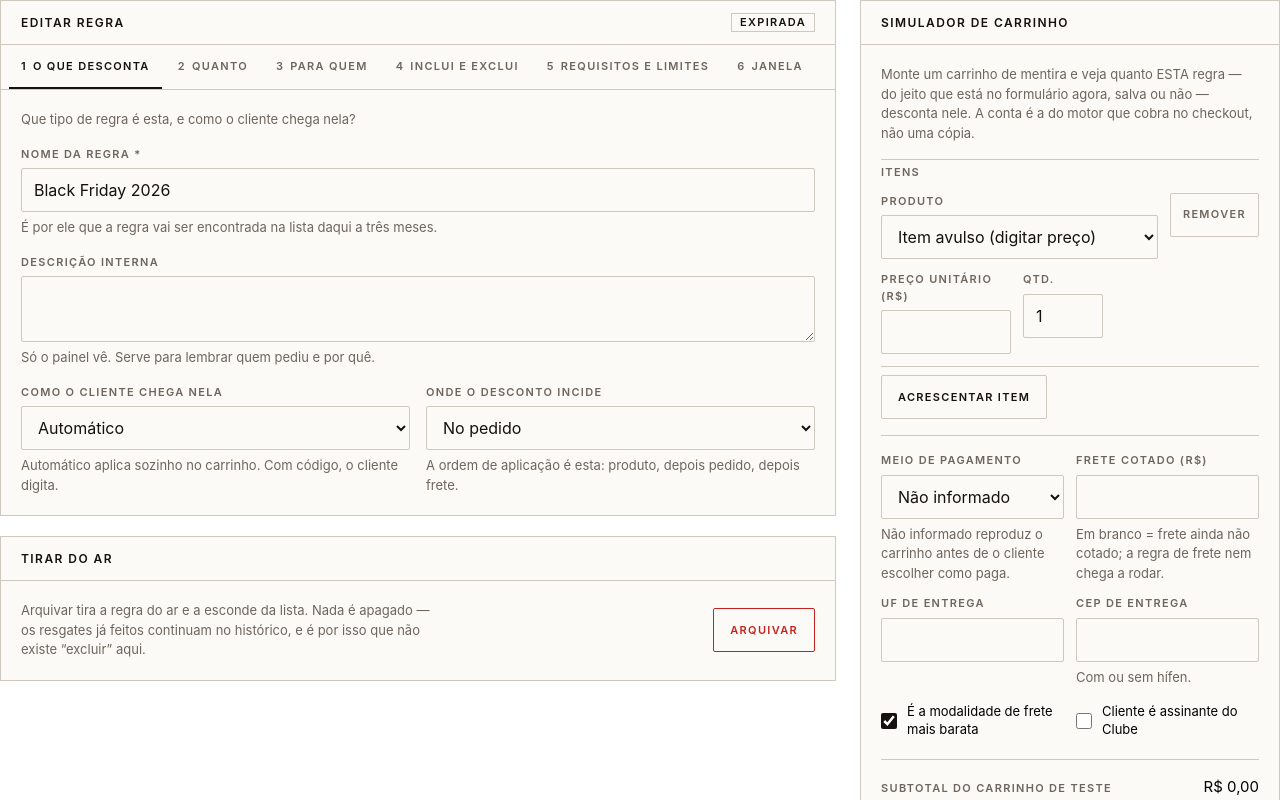
Test: os avisos › o alerta do teto some quando o teto é preenchido
Step 1. Click the tab "2 Quanto" → (213, 67), box [166,45,260,89]
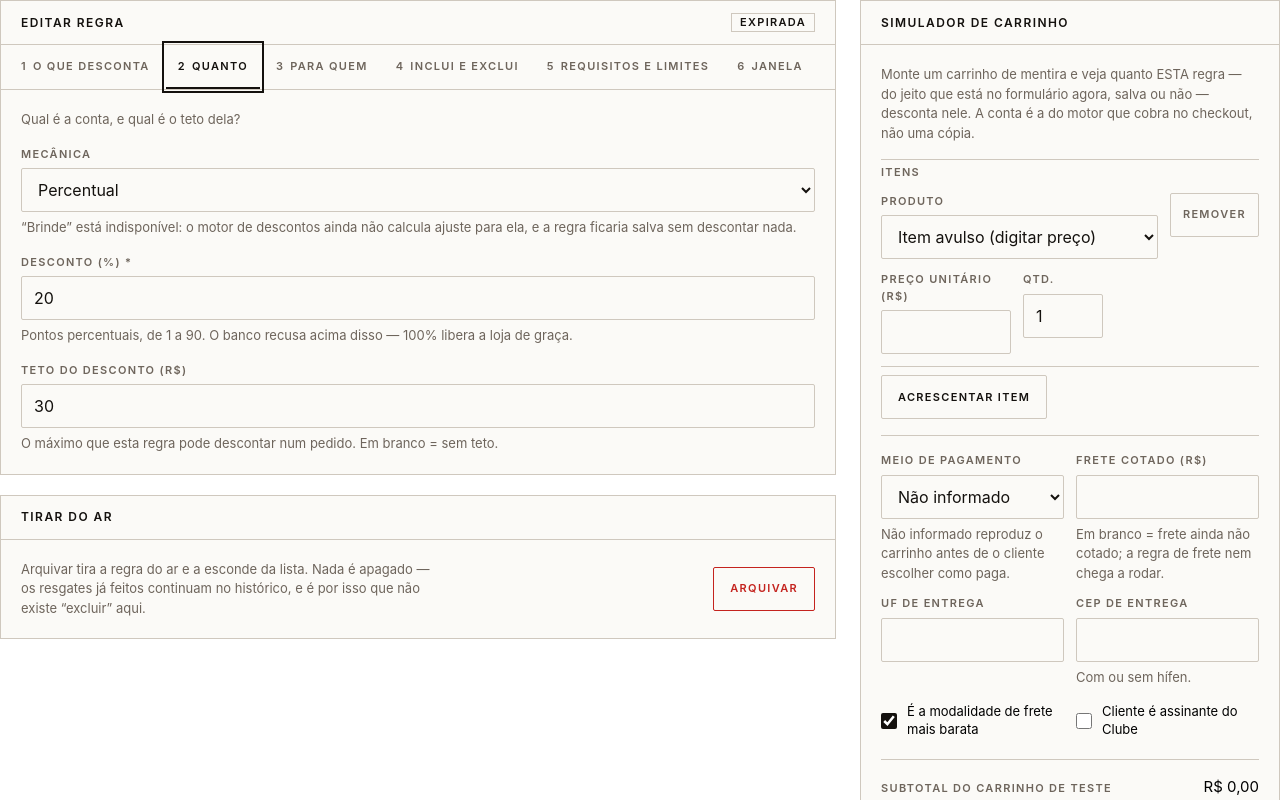
Step 2. Clear the field labelled "Teto do desconto (R$)" → (418, 406), box [21,384,815,428]
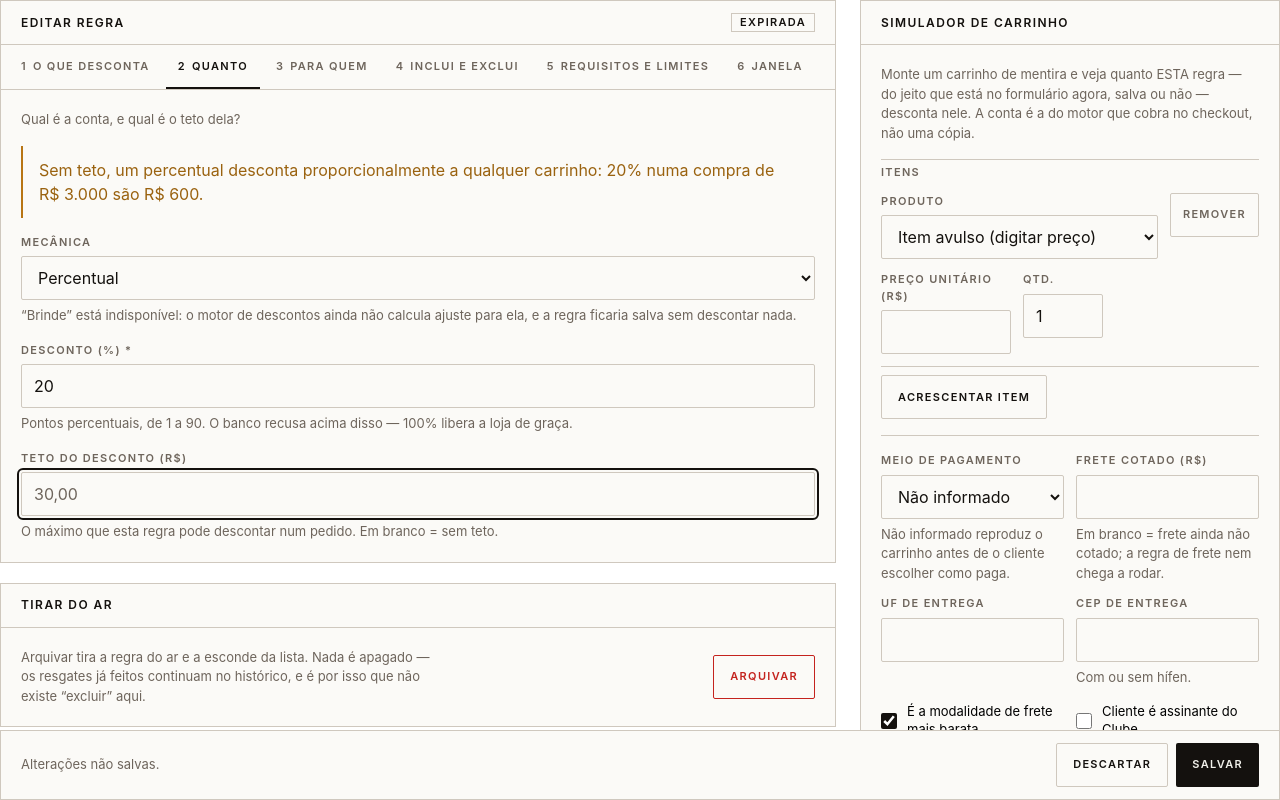
expect the text "20% numa compra de R$" is shown: met, box [39,160,774,204]
